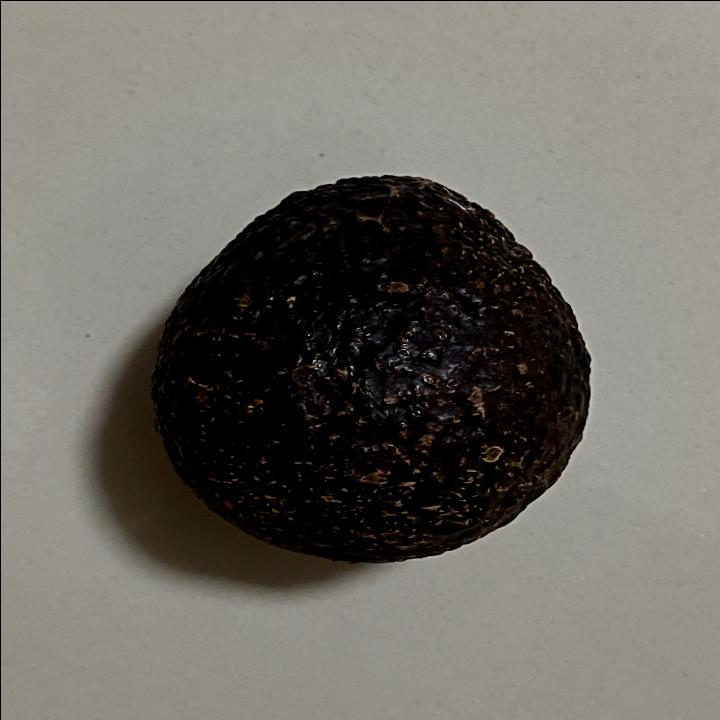Level2: (140, 166, 598, 569)
